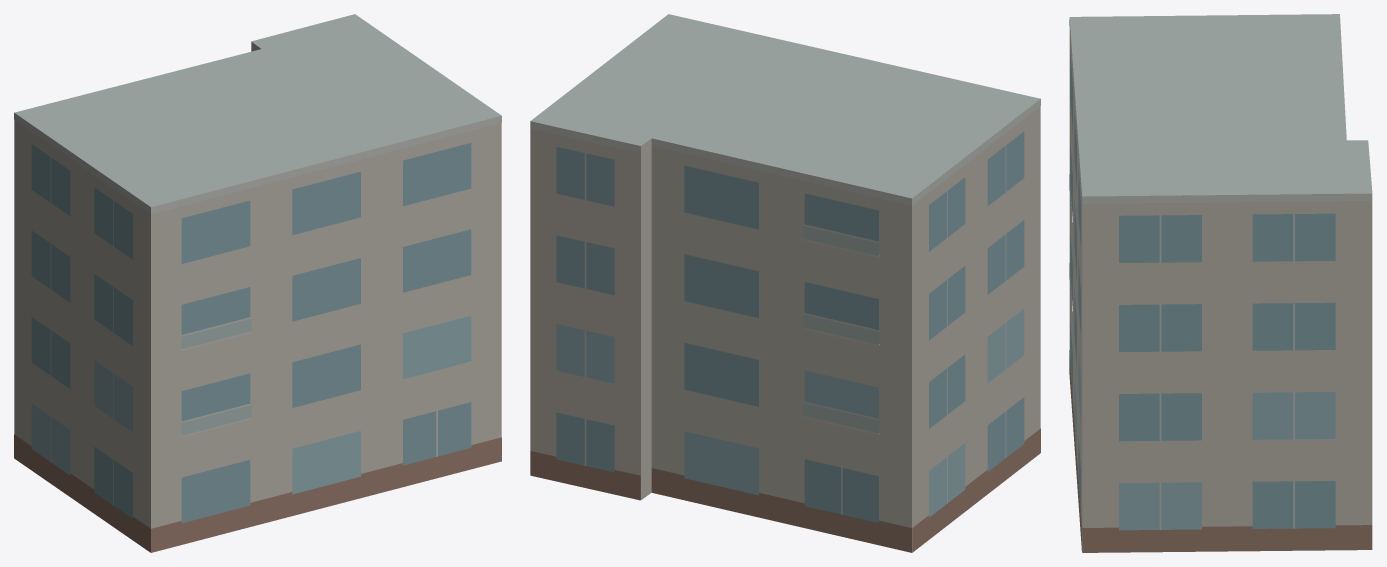
Rendered from survey-upis-32891723.glb.
3 views of the same model, side by side, from view 1: azimuth 30°, elevation 25°; view 2: azimuth 150°, elevation 25°; view 3: azimuth 270°, elevation 25° (orthographic). The views are drawn at different scales.
Visible parts, largest first — view 1: survey-upis-32891723.tmp; view 2: survey-upis-32891723.tmp; view 3: survey-upis-32891723.tmp.
Boxes of the visible parts, x1,y1,x2,y2 form: survey-upis-32891723.tmp: [14, 14, 501, 552]; survey-upis-32891723.tmp: [530, 14, 1040, 552]; survey-upis-32891723.tmp: [1069, 14, 1372, 552].
Bounding box in the file's own units: 13.08 × 11.9 × 9.18.
